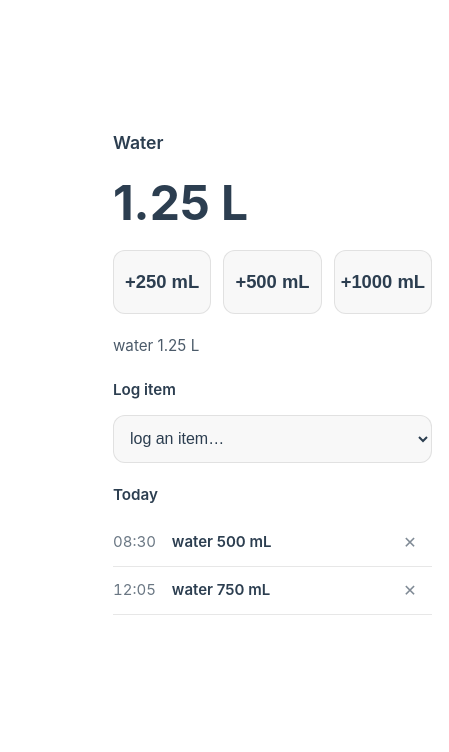
Test: HomeView › surfaces the backend reason when a serving log is rejected
Select "protein bar" in the dropdown with test id "item-select" at (272, 439), box [113,415,432,463]
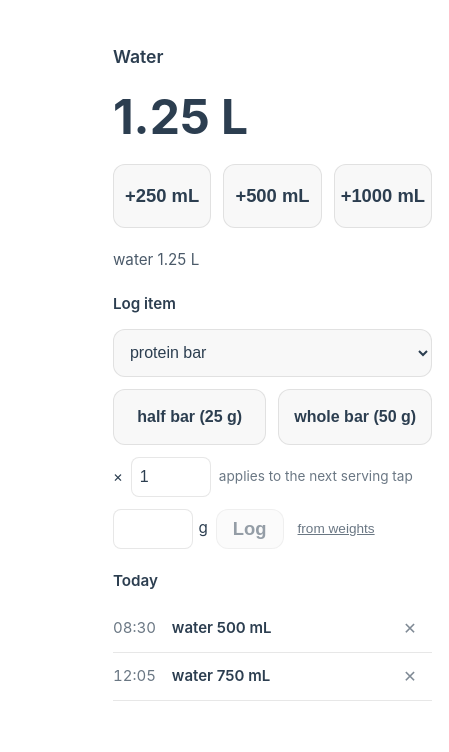
Click the button with test id "serving-button" showing "half bar (25 g)" at (190, 417), box [113,389,266,445]
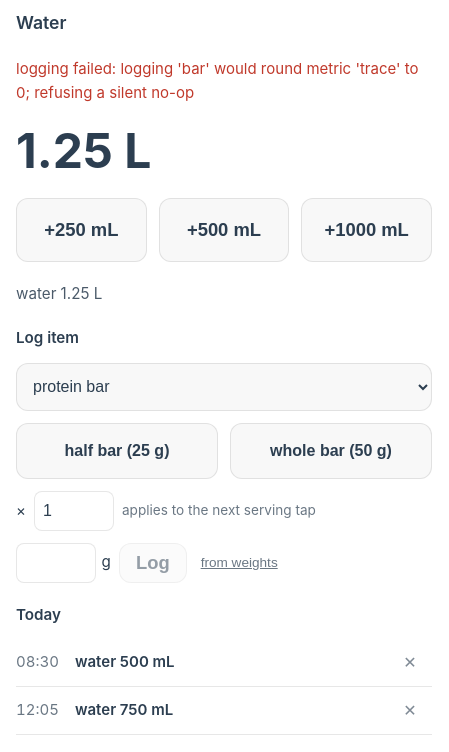
Check: the message with class "error" shows "logging failed: logging 'bar' would round", box [16,59,418,102]
